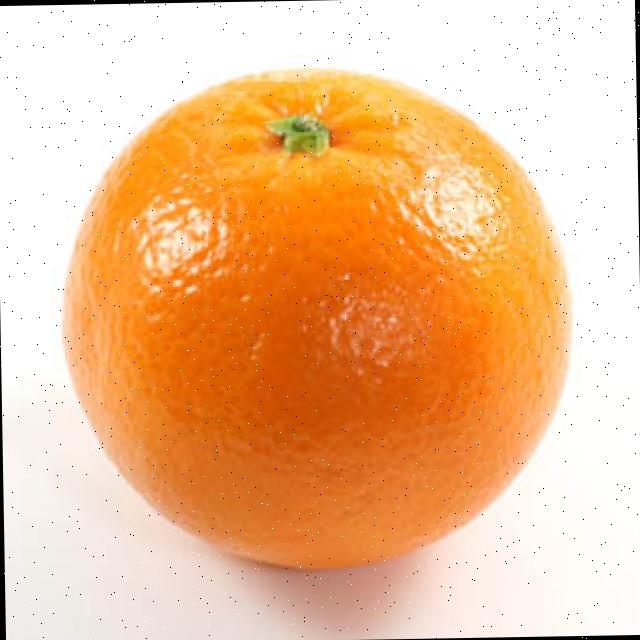Jeruk: (55, 62, 576, 574)
